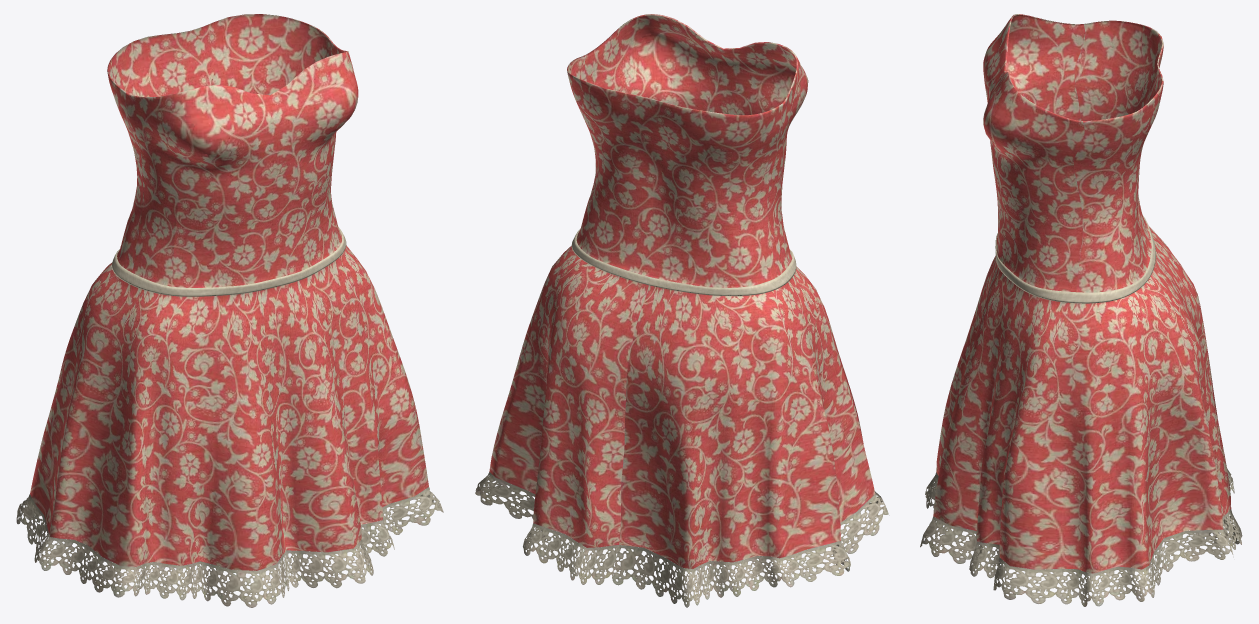
Rendered from toigo-bodice-dress-with-lace-ruffle-skirt.glb.
3 views of the same model, side by side, from view 1: azimuth 30°, elevation 25°; view 2: azimuth 150°, elevation 25°; view 3: azimuth 270°, elevation 25° (orthographic). The views are drawn at different scales.
Parts seen in each view (by area): view 1: bodice dress with lace ruffle skirt; view 2: bodice dress with lace ruffle skirt; view 3: bodice dress with lace ruffle skirt.
Part boxes in pixels (x1,y1,x2,y2): bodice dress with lace ruffle skirt: (16,14,443,607); bodice dress with lace ruffle skirt: (475,14,889,607); bodice dress with lace ruffle skirt: (920,14,1242,606).
Size of the model in its own units: 51.97 by 67.88 by 40.49.
Materials: 1 (1 with a texture image).
